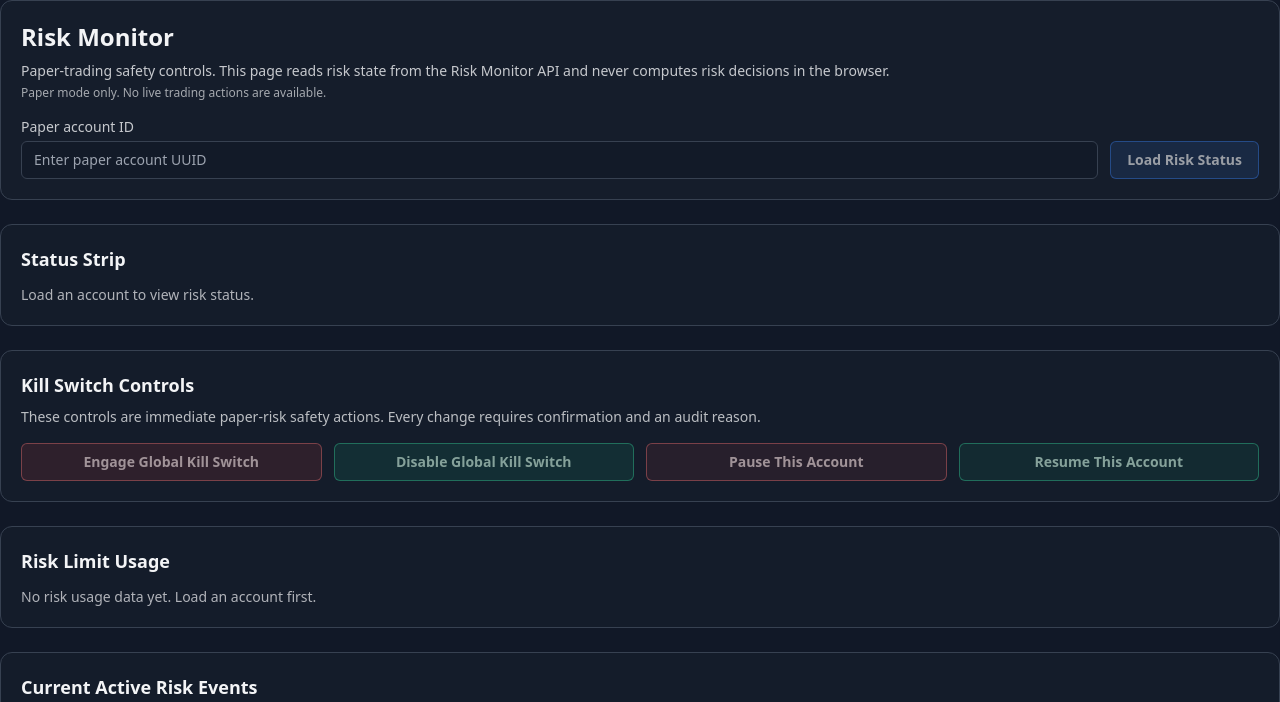
Scenario: RiskMonitorPage Prompt 6.9 › shows STATUS UNKNOWN fail-visible banner when /risk/status returns 503
The image size is (1280, 702).
Type "11111111-1111-1111-1111-111111111111" into the field labelled "Paper account ID" at {"x": 560, "y": 160}, box [21, 141, 1098, 179]
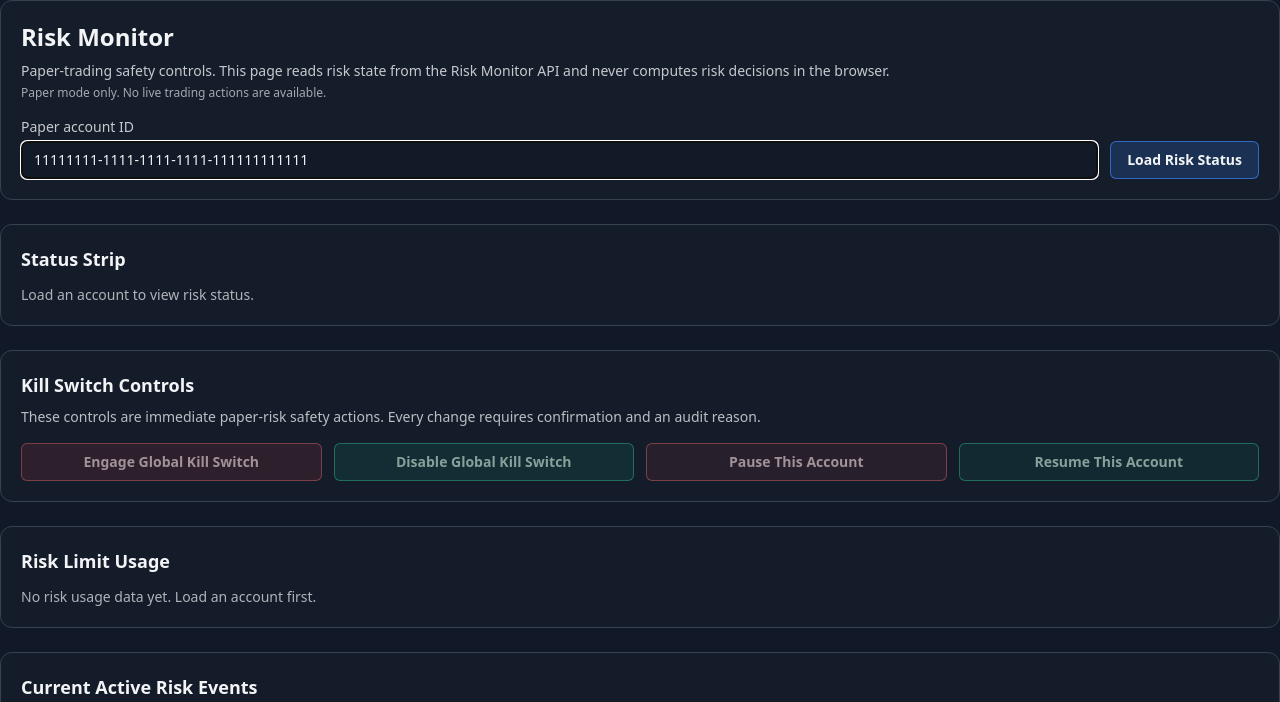
Click the button "Load Risk Status" at {"x": 1185, "y": 160}, box [1110, 141, 1259, 179]
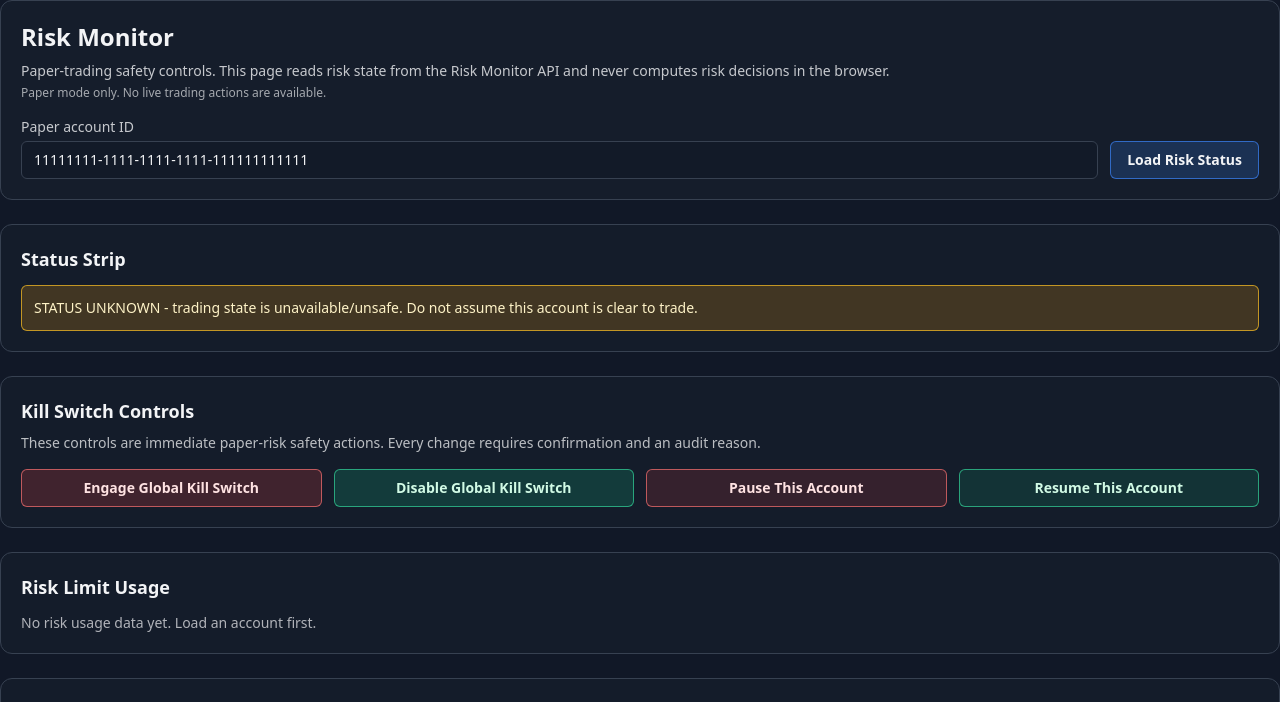
Expected: the text "unavailable/unsafe" is shown, [34, 298, 698, 317]
